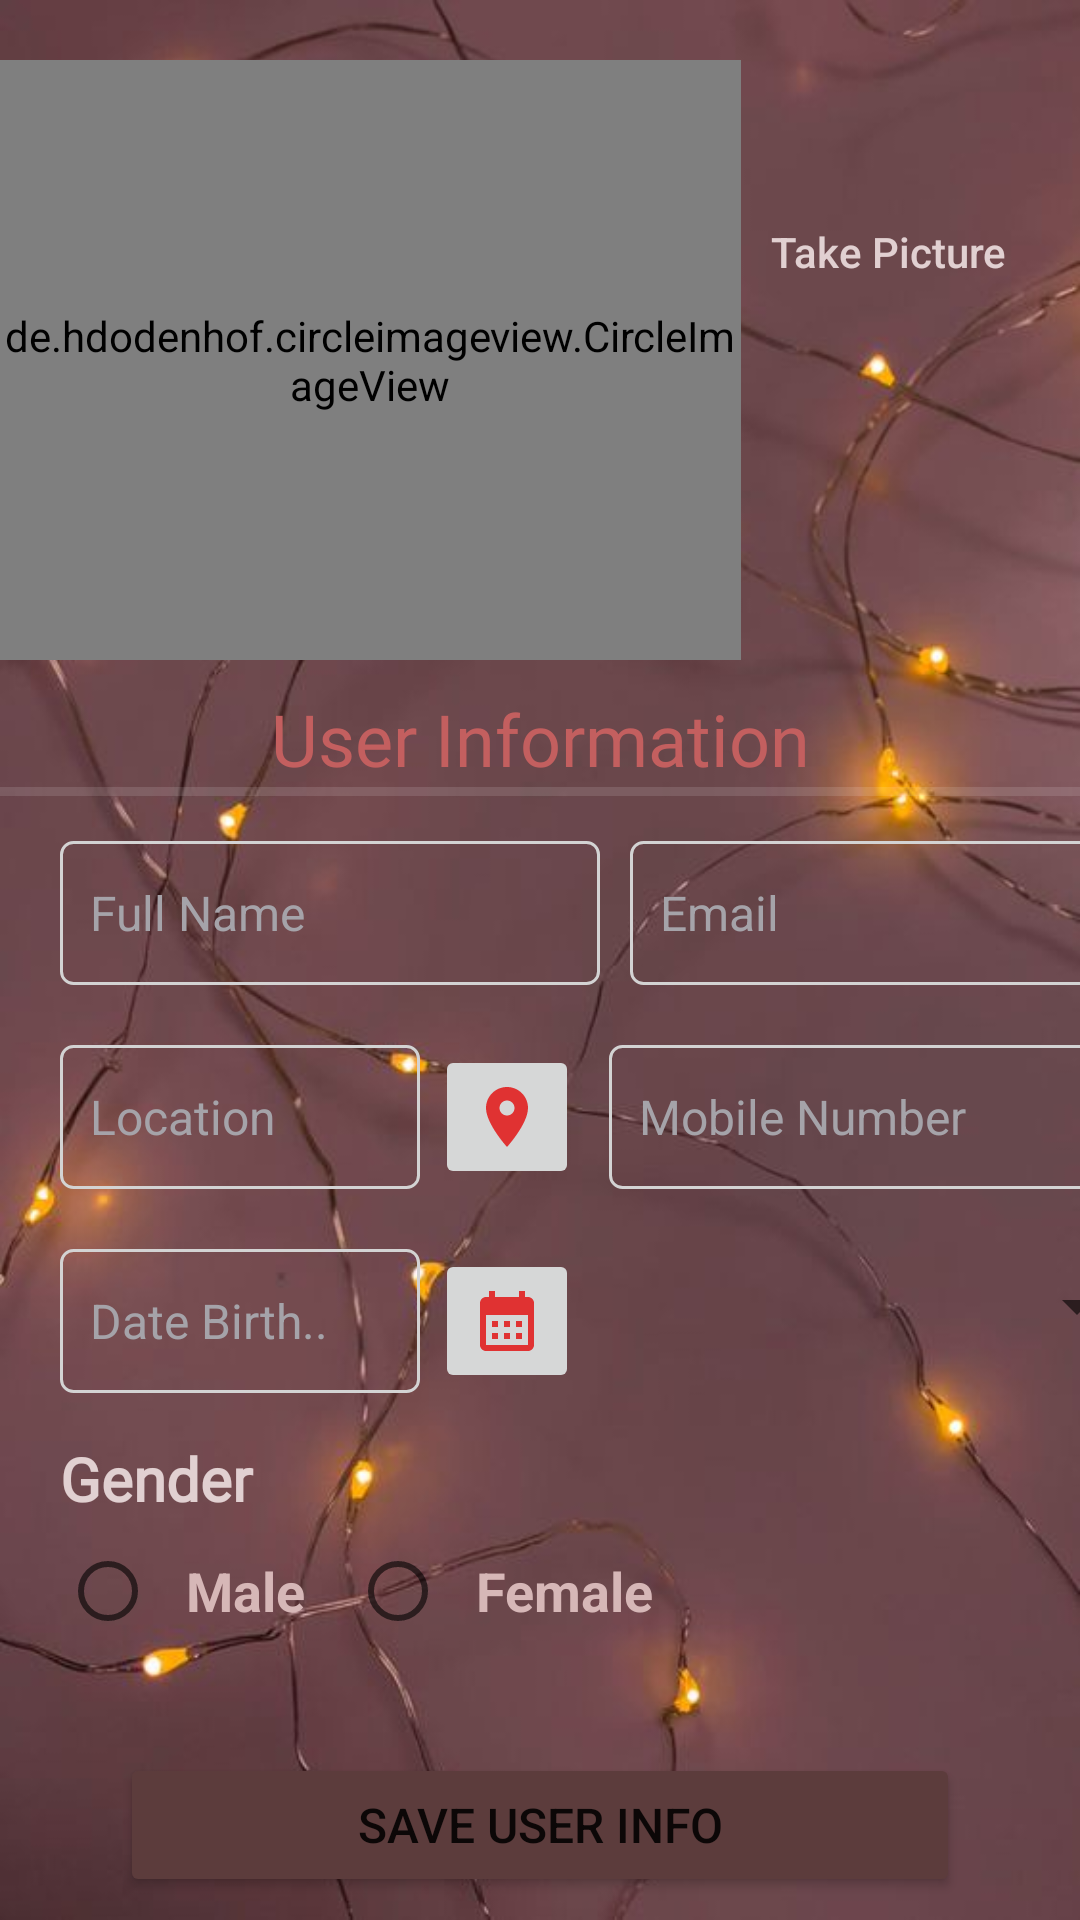

Where icons sit on this 1080 × 1920 app screen, as (x1, y1, x2, y2):
calendar month: (435, 1249, 567, 1375)
